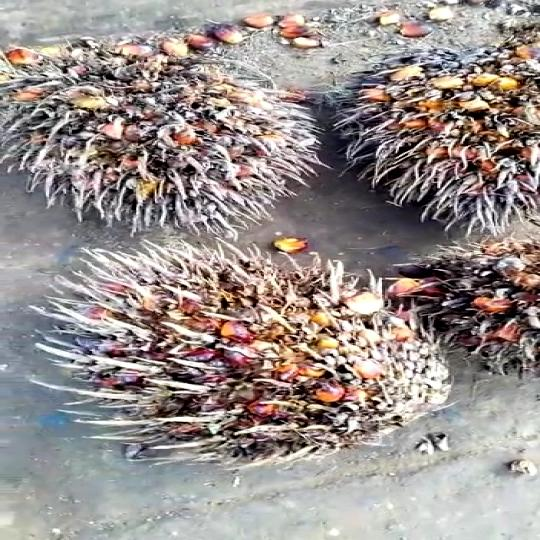terlalu masak: (23, 238, 458, 468), (0, 39, 320, 233), (323, 44, 540, 230)
